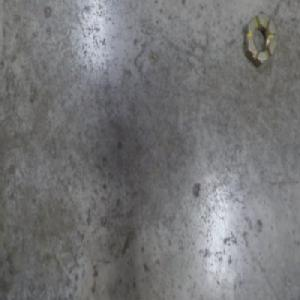Nut: (242, 10, 278, 71)
